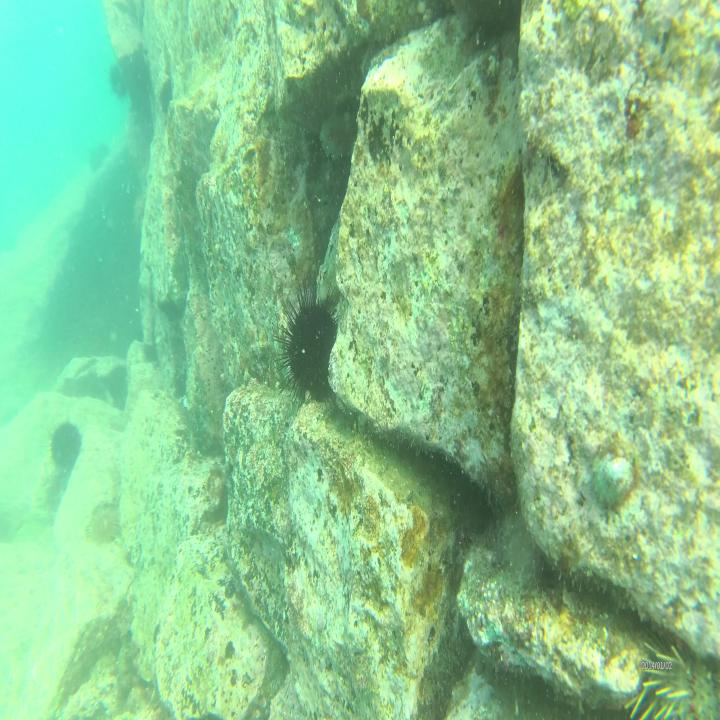echinus: (628, 626, 720, 720), (283, 291, 344, 399), (50, 418, 83, 469), (108, 57, 128, 103), (88, 142, 108, 172)
scallop: (593, 451, 635, 507)
